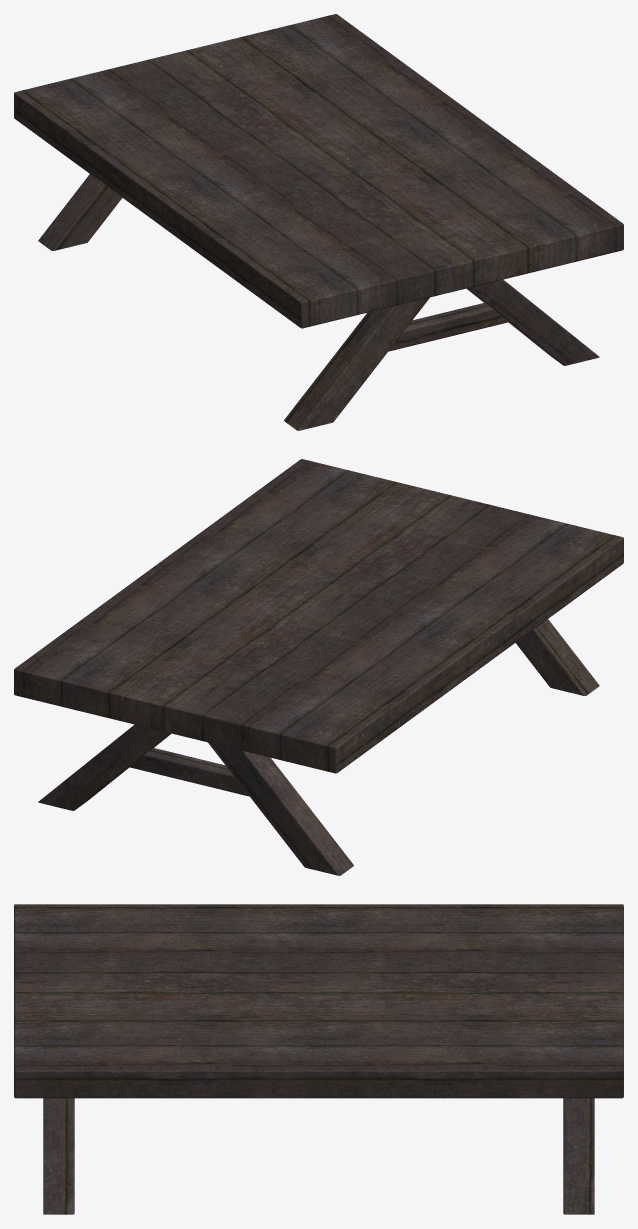
Rendered from Wood_Rustic_Table.fbx.
3 views of the same model, one above another, from view 1: azimuth 30°, elevation 25°; view 2: azimuth 150°, elevation 25°; view 3: azimuth 270°, elevation 25° (orthographic). The views are drawn at different scales.
Visible parts, largest first — view 1: Rustic_Table; view 2: Rustic_Table; view 3: Rustic_Table.
Part boxes in pixels (x1,y1,x2,y2): Rustic_Table: [14, 14, 623, 430]; Rustic_Table: [14, 459, 623, 875]; Rustic_Table: [14, 904, 623, 1214].
Size of the model in its own units: 176 by 73.51 by 272.
Materials: 1 (1 with a texture image).
